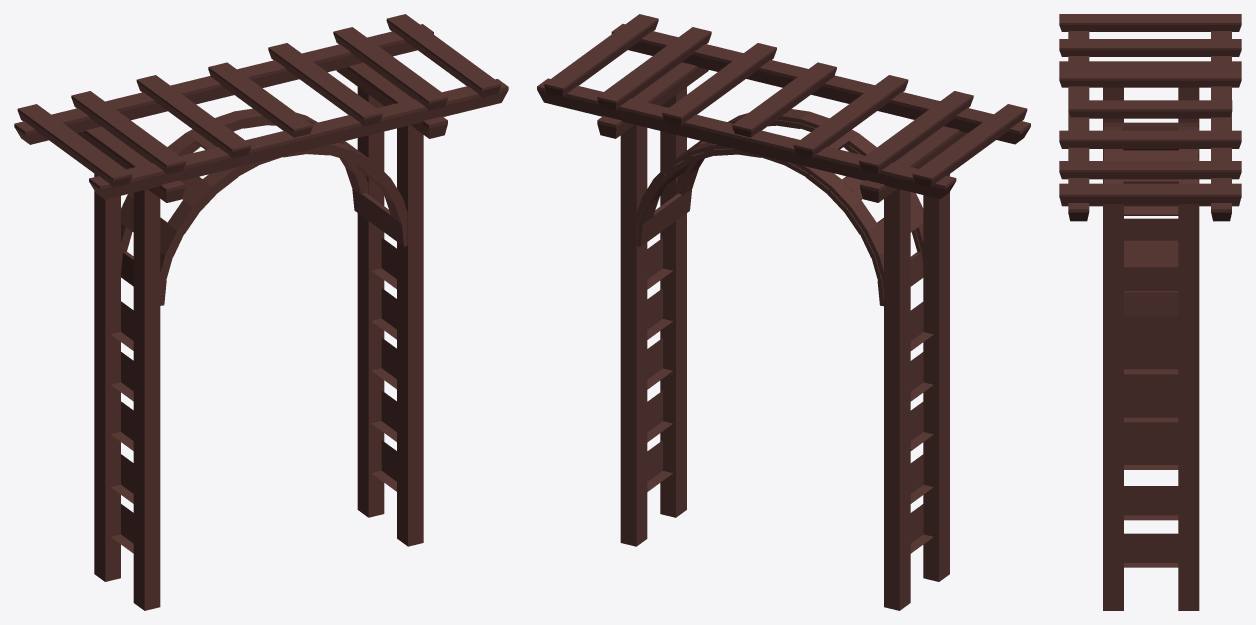
Rendered from trellis.fbx.
The picture shows the model from 3 angles, left to right: view 1: azimuth 30°, elevation 25°; view 2: azimuth 150°, elevation 25°; view 3: azimuth 270°, elevation 25°; orthographic projection. The views are drawn at different scales.
Visible parts, largest first — view 1: Trellis; view 2: Trellis; view 3: Trellis.
Boxes of the visible parts, bbox=[...] form: Trellis: bbox=[14, 14, 508, 610]; Trellis: bbox=[537, 14, 1030, 610]; Trellis: bbox=[1059, 14, 1241, 610].
Bounding box in the file's own units: 200 × 216 × 80.99.
